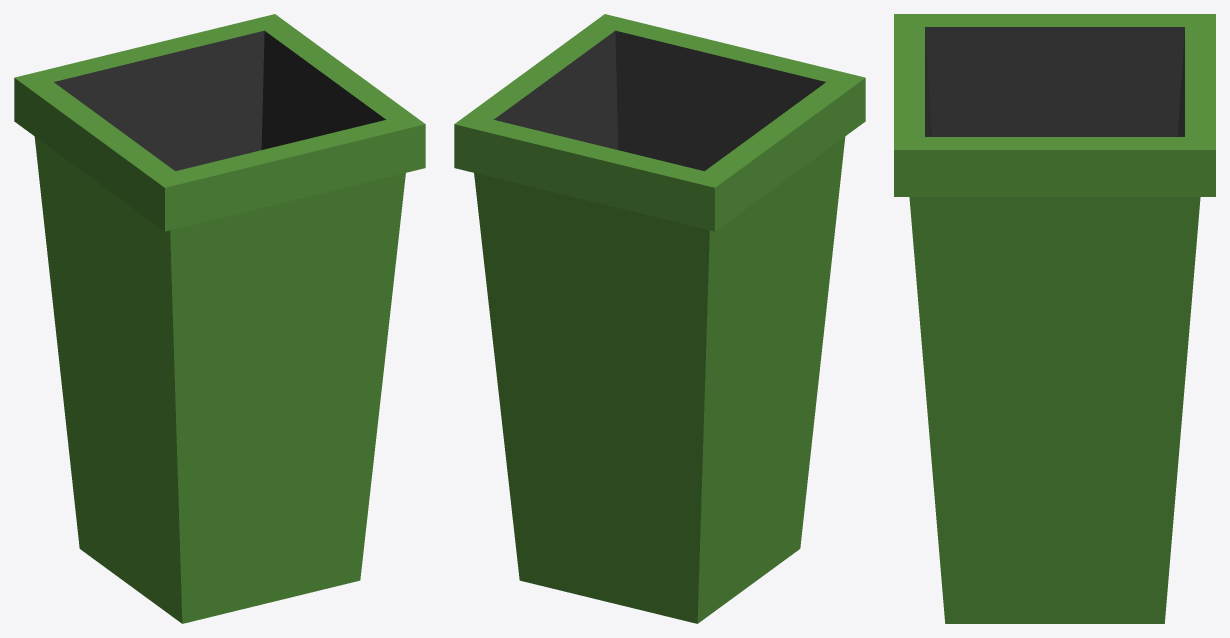
The model's file is TrashPlace.fbx.
3 renders of one model, left to right at view 1: azimuth 30°, elevation 25°; view 2: azimuth 150°, elevation 25°; view 3: azimuth 270°, elevation 25°, orthographic. The views are drawn at different scales.
Visible parts, largest first — view 1: Cube.002; view 2: Cube.002; view 3: Cube.002.
Part boxes in pixels (box(x1,y1,x2,y2)): Cube.002: box(14, 14, 425, 623); Cube.002: box(454, 14, 865, 623); Cube.002: box(894, 14, 1215, 623).
Bounding box in the file's own units: 45.02 × 76.48 × 45.02.
